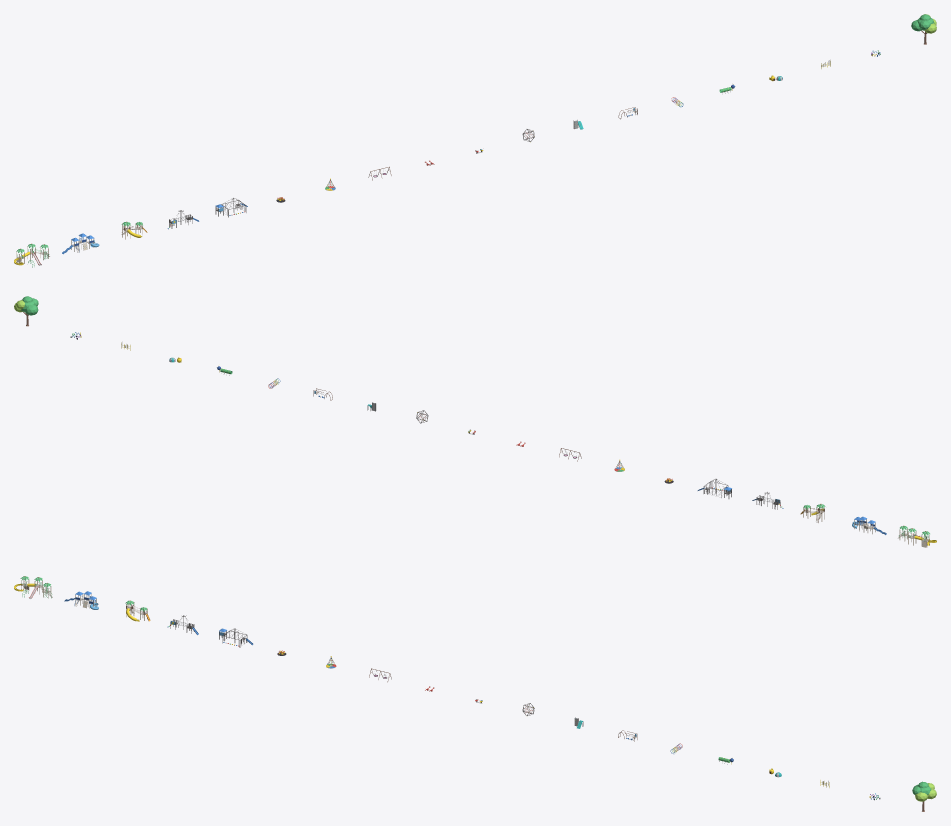
The model's file is equipment.glb.
3 views of the same model, one above another, from view 1: azimuth 30°, elevation 25°; view 2: azimuth 150°, elevation 25°; view 3: azimuth 330°, elevation 25° (orthographic).
Size of the model in its own units: 298 by 9.04 by 7.
